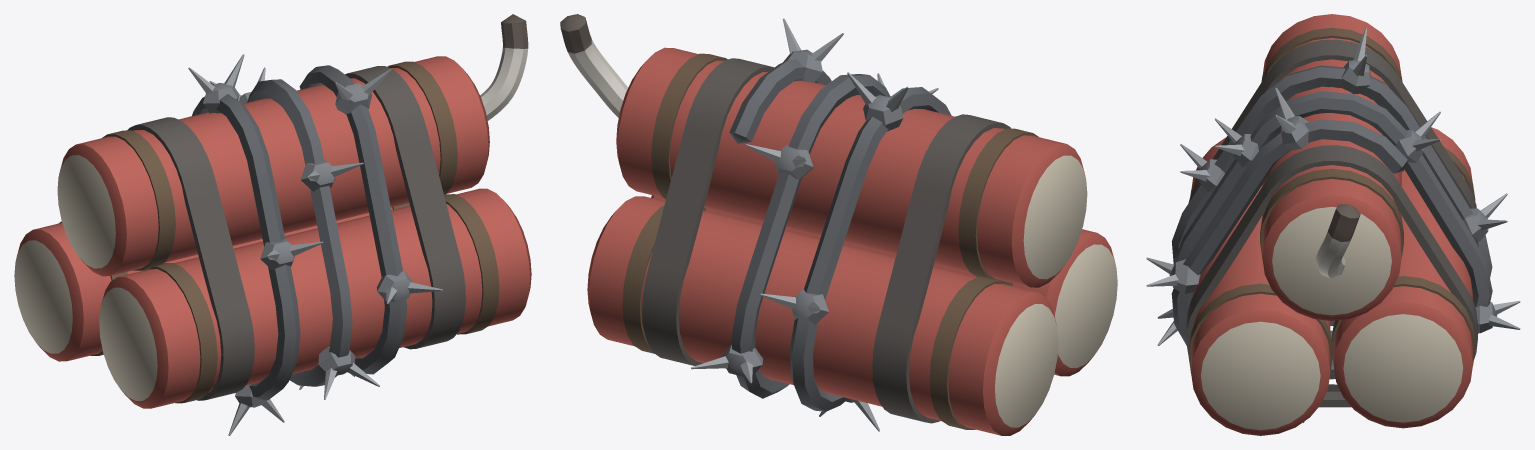
Rendered from dynamite_b_bundle_wire.glb.
3 views of the same model, side by side, from view 1: azimuth 30°, elevation 25°; view 2: azimuth 150°, elevation 25°; view 3: azimuth 270°, elevation 25° (orthographic). The views are drawn at different scales.
Visible parts, largest first — view 1: Dynamite; view 2: Dynamite; view 3: Dynamite.
Part boxes in pixels (<box>): Dynamite: <box>14,14,531,435</box>; Dynamite: <box>560,14,1117,435</box>; Dynamite: <box>1146,14,1520,435</box>.
Bounding box in the file's own units: 0.6557 × 0.441 × 0.4563.
